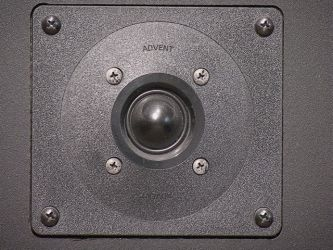screw: (40, 204, 62, 228), (253, 207, 275, 229), (41, 15, 64, 36), (254, 16, 274, 38), (105, 65, 125, 86), (104, 156, 125, 176), (192, 157, 211, 177), (193, 67, 212, 87)
